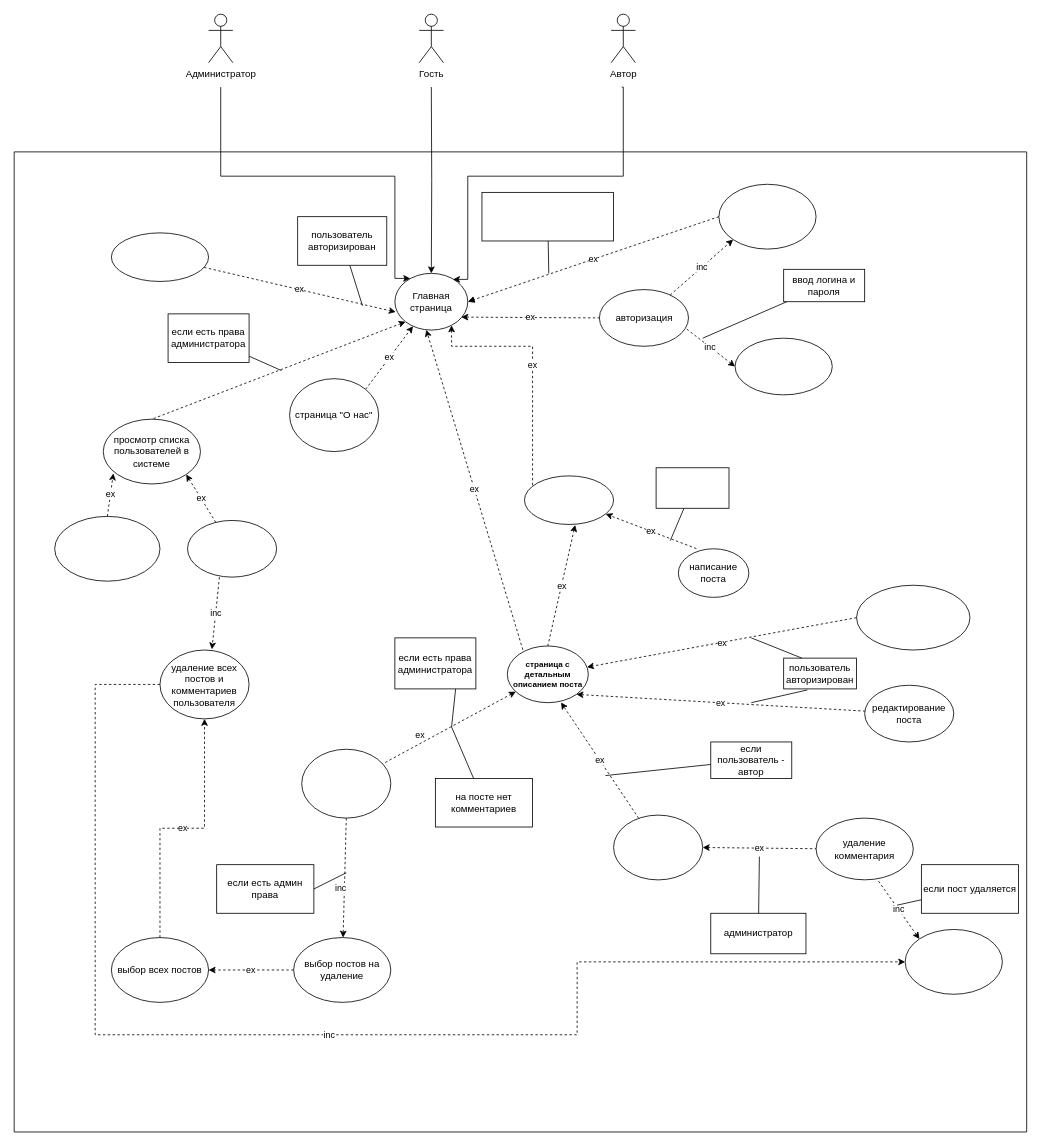
Image size: 1041x1146. Some labels were removed from this diagram. The shapes that lost their labels are listed below. From the top down, each one's centre as x and y in pixels, then its label:
At pixel 547 216: "name, surname; patronymic, login, email, password, password_repeat rules".
At pixel 767 216: "регистрация в системе".
At pixel 160 256: "выход из аккаунта".
At pixel 783 366: "вход в аккаунт".
At pixel 569 499: "переход к ленте постов".
At pixel 692 487: "если пользователь автроизован".
At pixel 107 548: "блокировка пользователя временно".
At pixel 232 548: "блокировка пользователя перманентно".
At pixel 913 617: "ответ на комментарии под своим постом".
At pixel 346 783: "удаление поста".
At pixel 658 847: "написание комментария".
At pixel 953 961: "удаление ветки комментариев".
